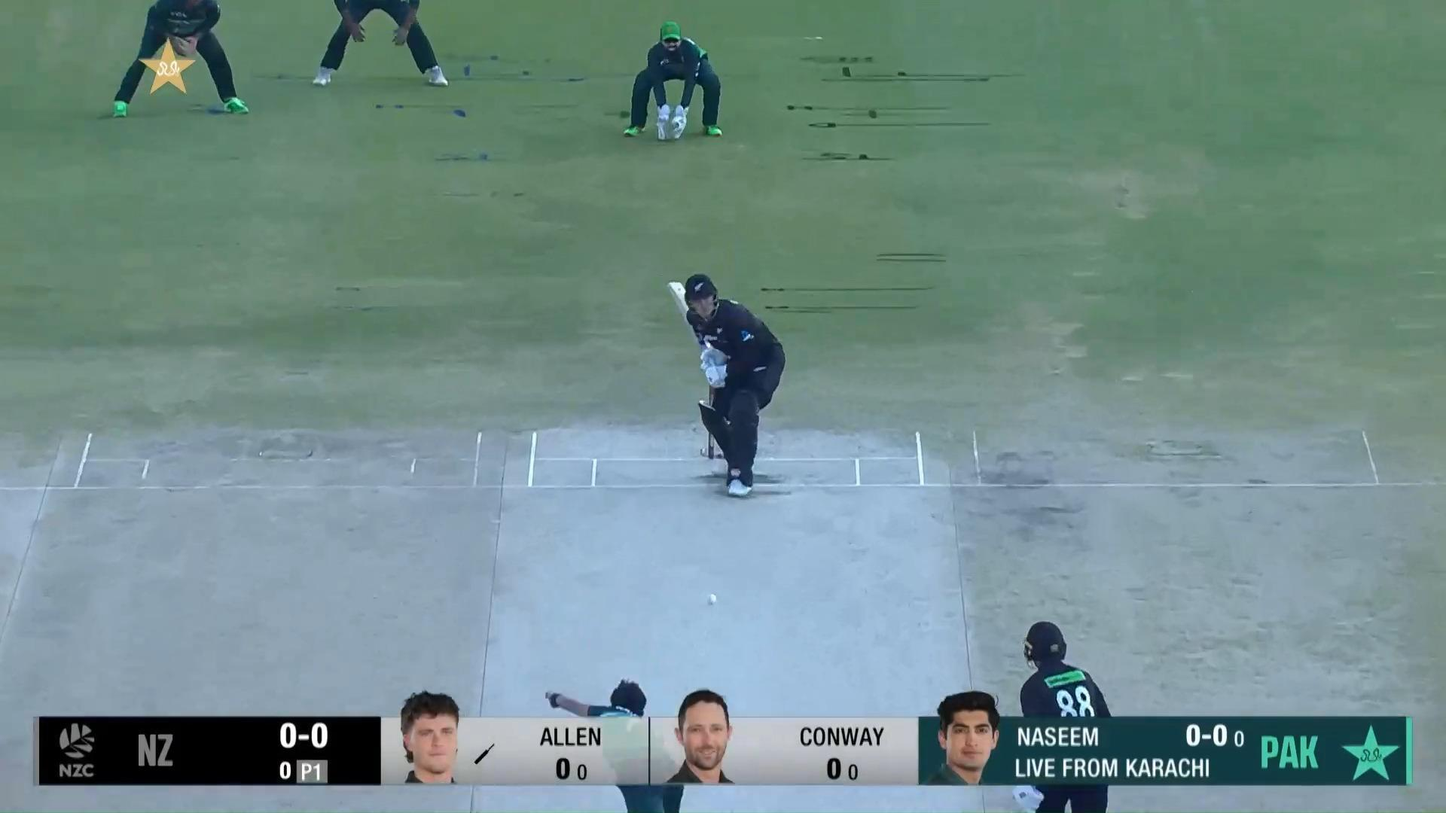BM 1: (668, 274, 786, 497)
BO: (544, 678, 689, 813)
